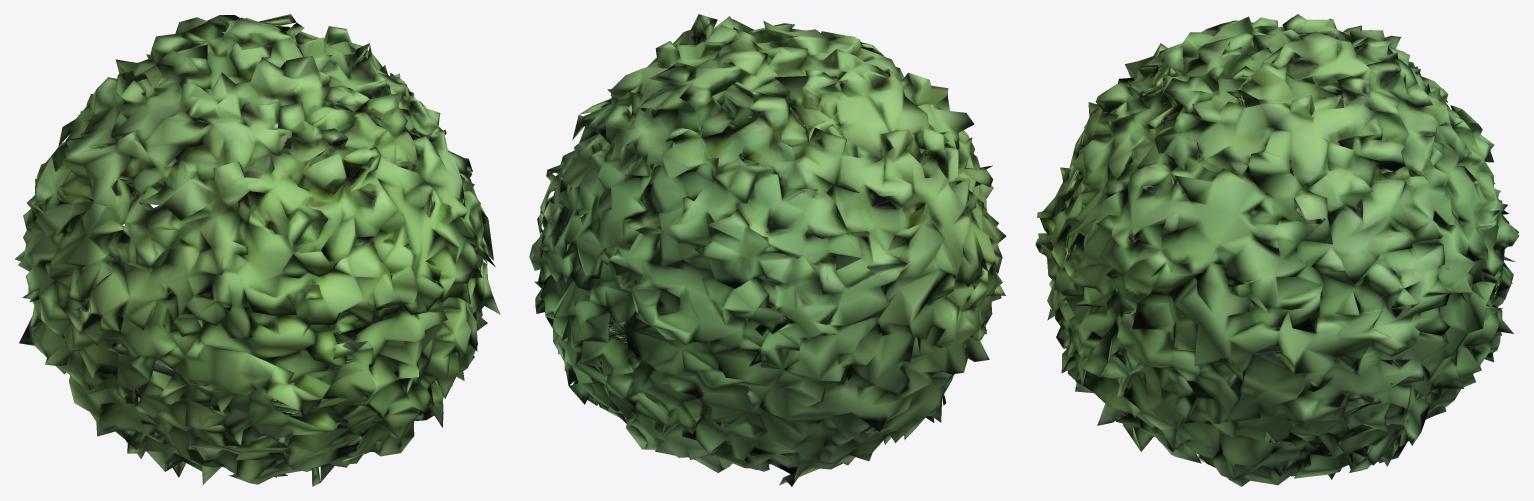
File: Arbusto-Redondo.glb
3 renders of one model, left to right at view 1: azimuth 30°, elevation 25°; view 2: azimuth 150°, elevation 25°; view 3: azimuth 270°, elevation 25°, orthographic.
Visible parts, largest first — view 1: Mesh_0; view 2: Mesh_0; view 3: Mesh_0.
Boxes of the visible parts, x1,y1,x2,y2 form: Mesh_0: (15,14,500,486); Mesh_0: (529,14,1006,486); Mesh_0: (1035,14,1519,486).
Size of the model in its own units: 1.98 by 1.87 by 2.
Materials: 1 (1 with a texture image).
